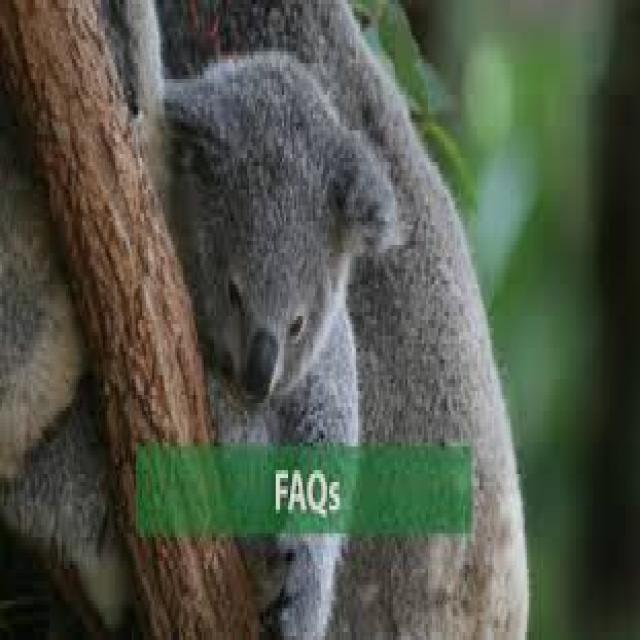Koala: (152, 42, 410, 638)
